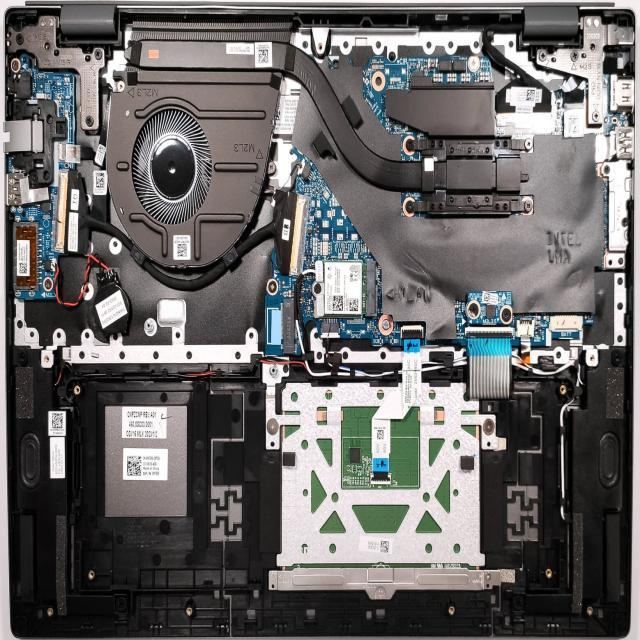SSD: (312, 260, 375, 318)
Screw: (536, 47, 549, 65), (14, 32, 25, 51), (569, 49, 580, 68)
